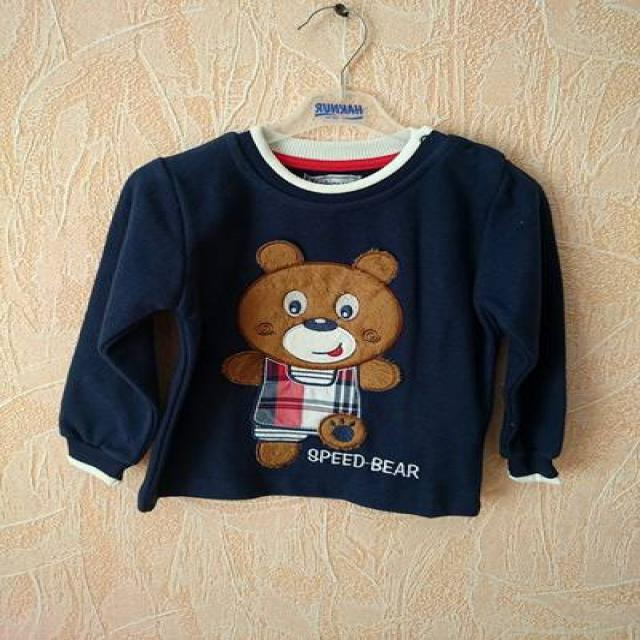Clothes -Biodegradable-: (52, 124, 565, 512)
